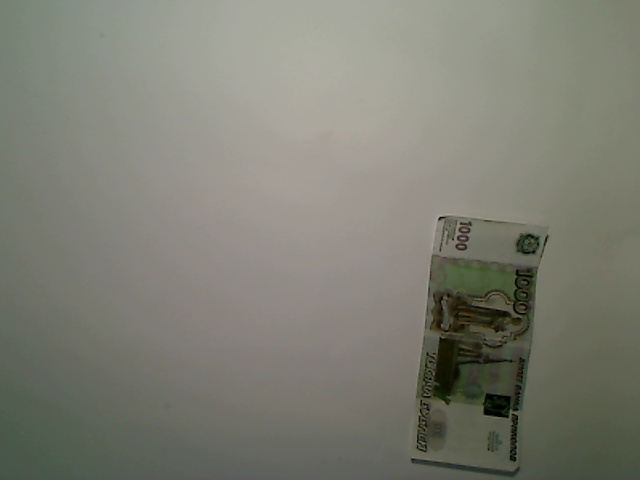banknotes: (405, 211, 553, 480)
